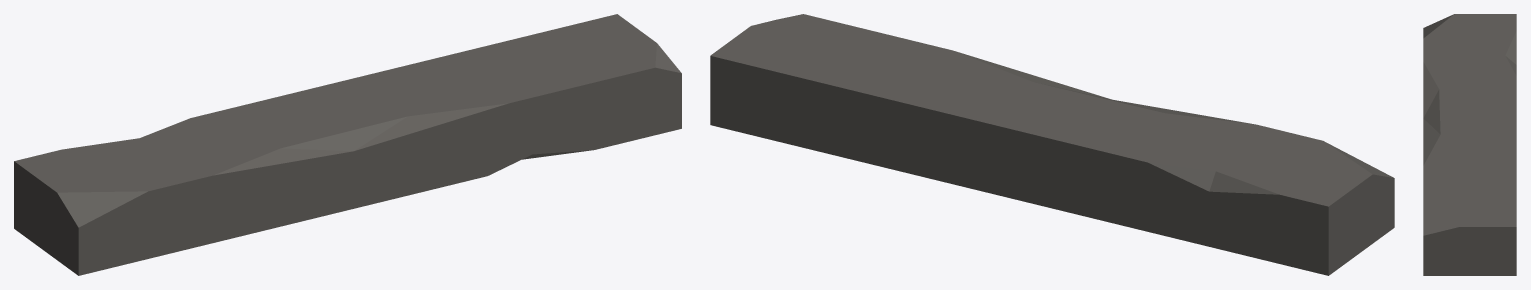
File: prop_path_step.gltf
The picture shows the model from 3 angles, left to right: view 1: azimuth 30°, elevation 25°; view 2: azimuth 150°, elevation 25°; view 3: azimuth 270°, elevation 25°; orthographic projection. The views are drawn at different scales.
Parts seen in each view (by area): view 1: prop_path_step; view 2: prop_path_step; view 3: prop_path_step.
Boxes of the visible parts, x1,y1,x2,y2 form: prop_path_step: [14, 14, 681, 275]; prop_path_step: [710, 14, 1394, 275]; prop_path_step: [1423, 14, 1516, 275].
Size of the model in its own units: 2.07 by 0.2212 by 0.3824.
Materials: 1 (1 with a texture image).
